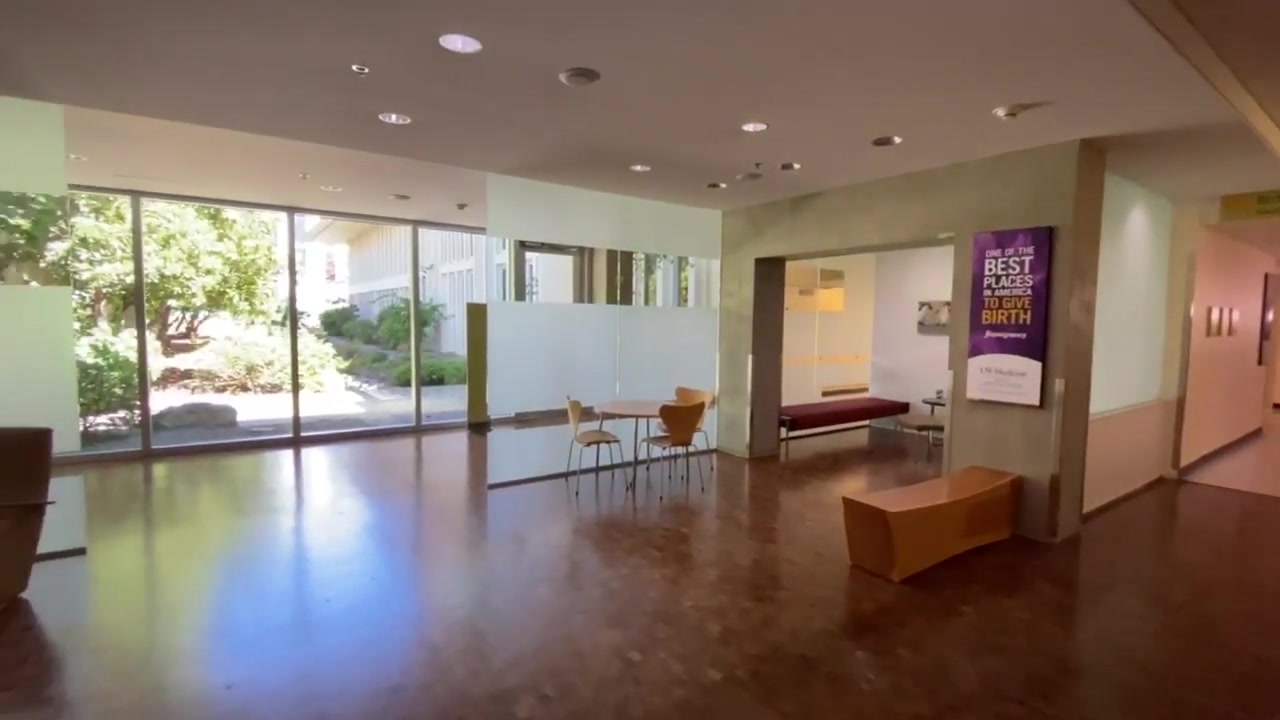chair: (840, 463, 1025, 582), (630, 400, 709, 500), (646, 386, 714, 480), (564, 400, 629, 496), (897, 395, 952, 453)
sofa: (1, 415, 56, 599), (780, 396, 910, 431)
table: (592, 399, 684, 512)
